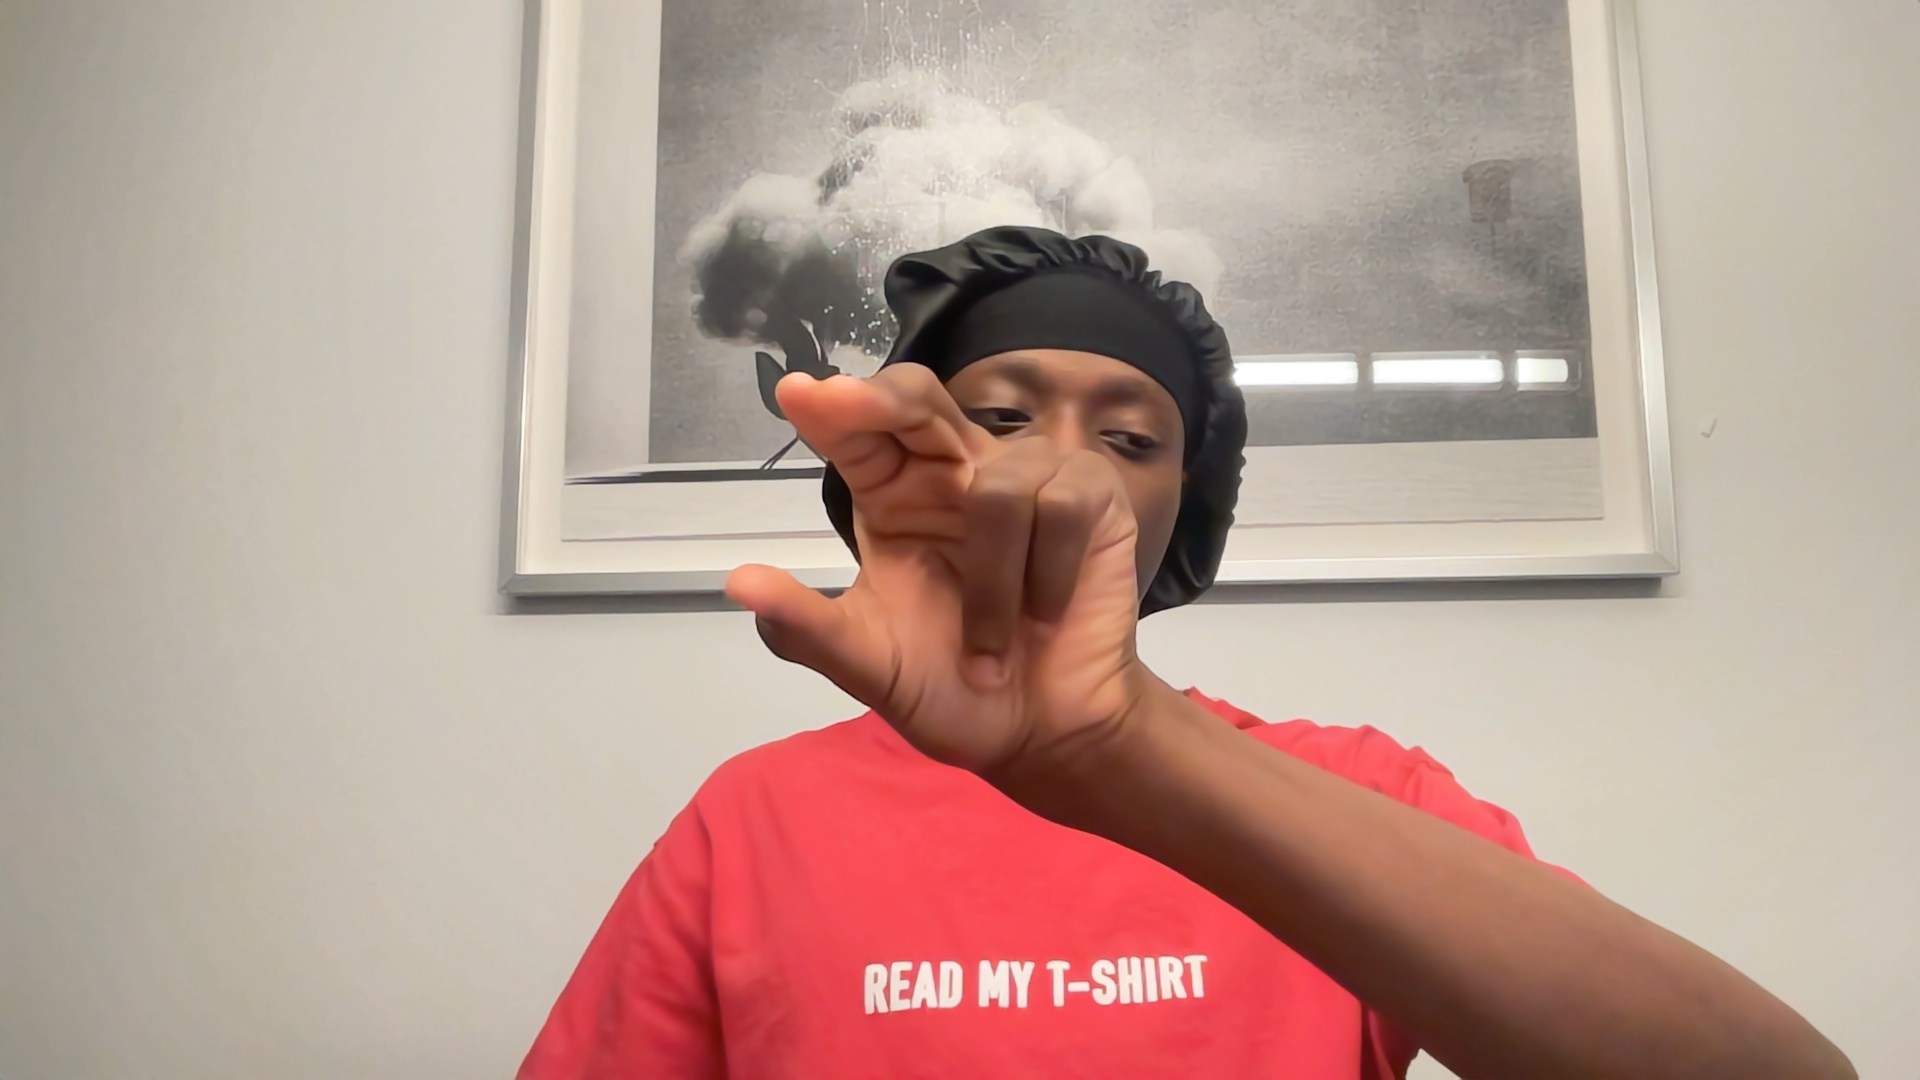No: (674, 305, 1377, 872)
